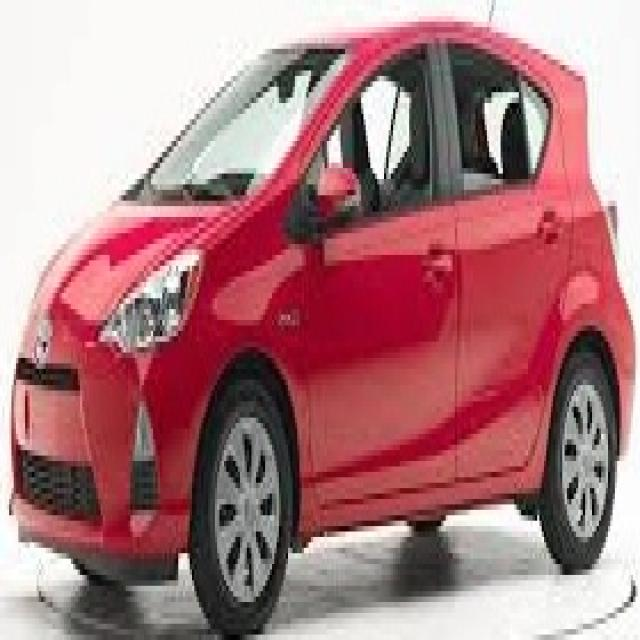red: (16, 22, 639, 560)
